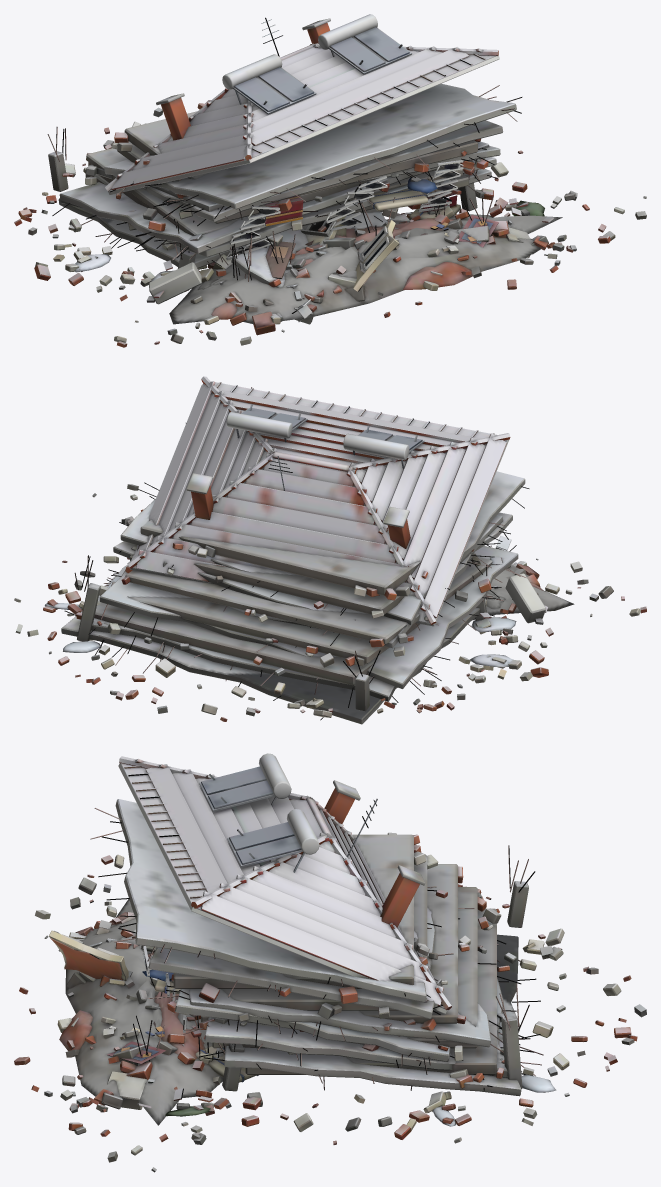
Rendered from bld_pancake_slide.glb.
The picture shows the model from 3 angles, top to bottom: view 1: azimuth 30°, elevation 25°; view 2: azimuth 150°, elevation 25°; view 3: azimuth 270°, elevation 25°; orthographic projection. The views are drawn at different scales.
Parts seen in each view (by area): view 1: bld_pancake_slide; view 2: bld_pancake_slide; view 3: bld_pancake_slide.
Boxes of the visible parts, left/top/right/bottom form: bld_pancake_slide: left=14, top=14, right=646, bottom=347; bld_pancake_slide: left=14, top=376, right=646, bottom=724; bld_pancake_slide: left=14, top=753, right=646, bottom=1172.
Bounding box in the file's own units: 21.83 × 7.66 × 18.66.
Materials: 1 (1 with a texture image).
